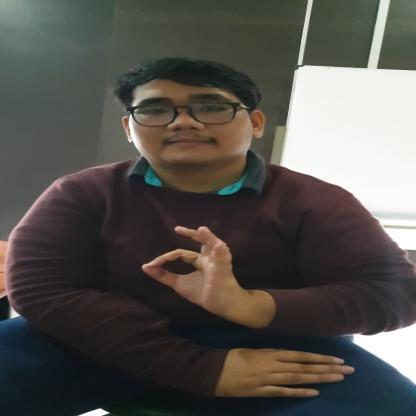O: (140, 223, 246, 310)
